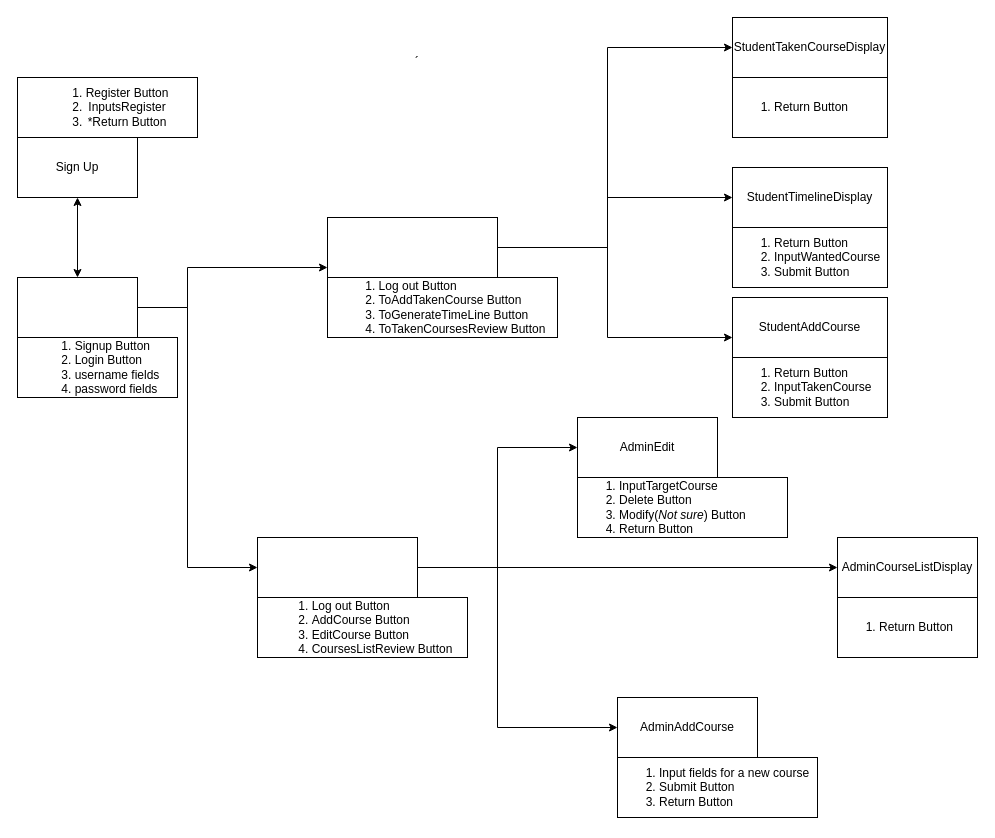
This 995x838 diagram has some shape labels left out. The shapes that lost their labels are listed below. From the top down, each one's box as (x1, y1, x2, y2) in pixels, then its label:
(326, 216, 498, 278): StudentActivity
(16, 276, 138, 338): Log In
(256, 536, 418, 598): Adminactivity
